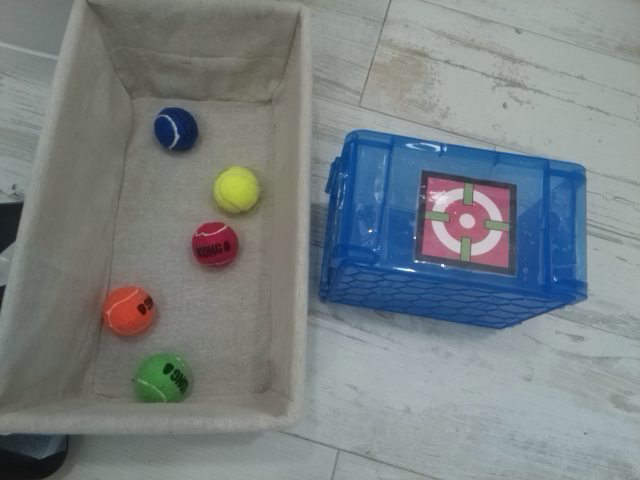blue-ball: (154, 106, 198, 152)
drop-bin: (415, 169, 518, 277)
green-ball: (133, 351, 190, 406)
orange-ball: (101, 284, 156, 339)
red-ball: (191, 221, 239, 268)
yellow-ball: (213, 166, 261, 214)
